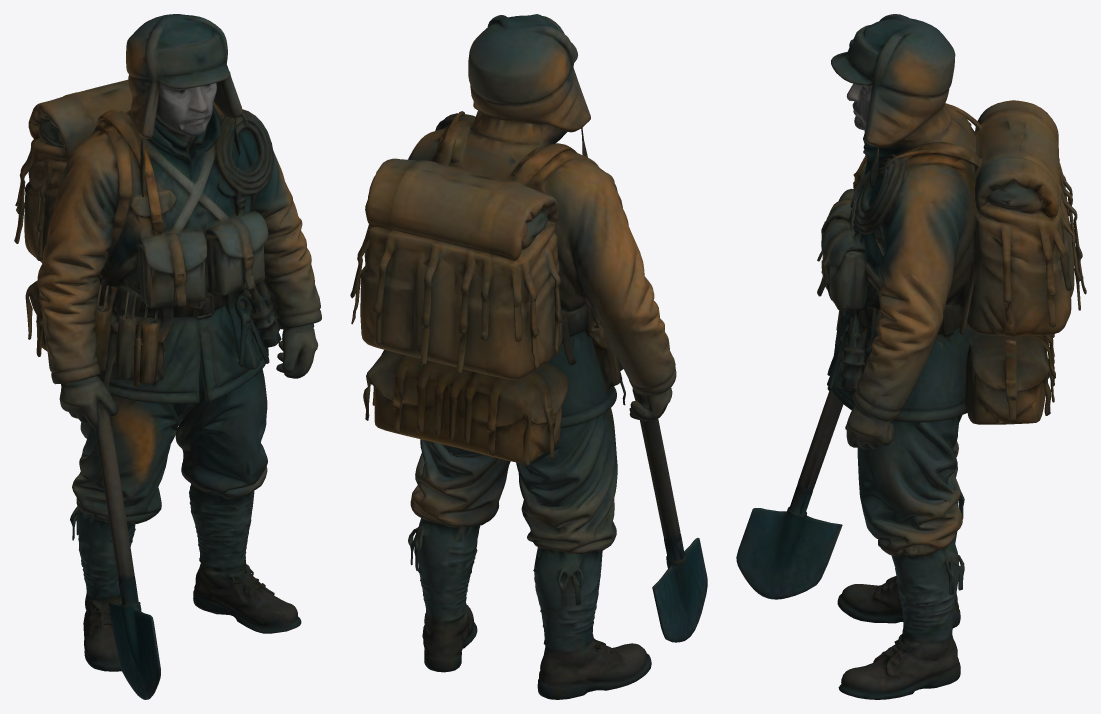
Rendered from char_demo.glb.
3 renders of one model, left to right at view 1: azimuth 30°, elevation 25°; view 2: azimuth 150°, elevation 25°; view 3: azimuth 270°, elevation 25°, orthographic. The views are drawn at different scales.
Parts seen in each view (by area): view 1: material; view 2: material; view 3: material.
Boxes of the visible parts, <box> form: material: <box>14,14,321,699</box>; material: <box>350,14,707,699</box>; material: <box>736,14,1086,699</box>.
Bounding box in the file's own units: 0.4878 × 1.08 × 0.5442.
Materials: 1 (1 with a texture image).
